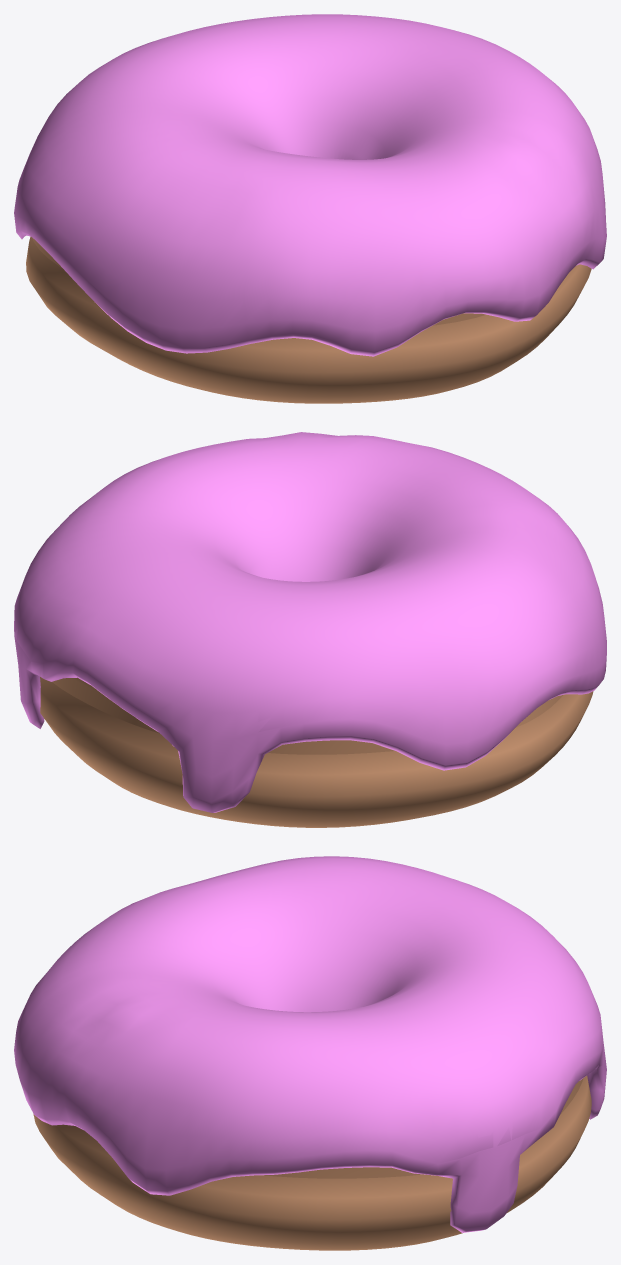
File: Donut Model.glb
3 views of the same model, one above another, from view 1: azimuth 30°, elevation 25°; view 2: azimuth 150°, elevation 25°; view 3: azimuth 270°, elevation 25° (orthographic).
Visible parts, largest first — view 1: Icing, Donut; view 2: Icing, Donut; view 3: Icing, Donut.
Boxes of the visible parts, left/top/right/bottom form: Icing: left=14, top=14, right=606, bottom=356; Donut: left=26, top=236, right=591, bottom=403; Icing: left=14, top=432, right=606, bottom=812; Donut: left=40, top=677, right=593, bottom=827; Icing: left=14, top=856, right=606, bottom=1232; Donut: left=33, top=1076, right=591, bottom=1250.
Size of what is drawn, in the model's own units: 1.01 by 0.4511 by 1.03.
